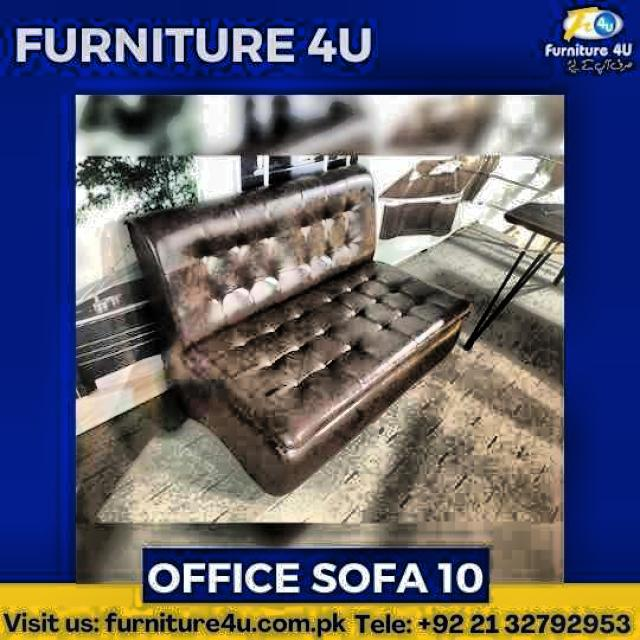sofa: (123, 161, 473, 497)
